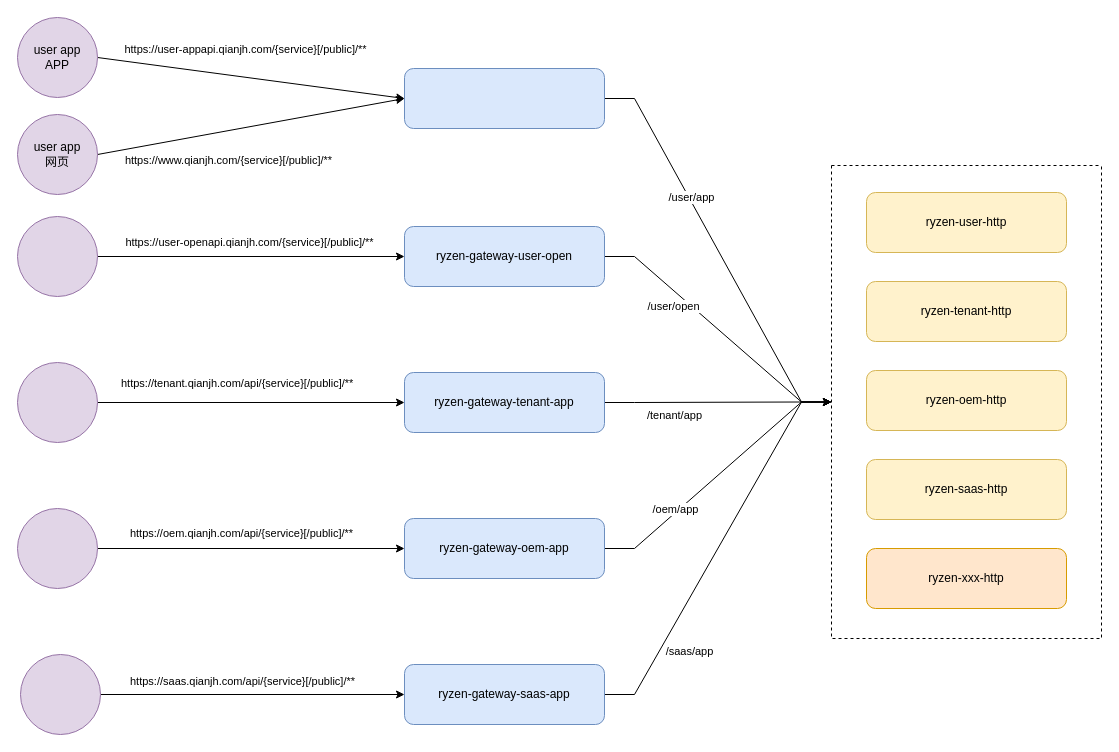
This 1119x752 diagram has some shape labels left out. The box of each missing label's shape, as (x1, y1, x2, y2) in pixels:
oem app 网页: (16, 508, 98, 588)
openapi: (16, 216, 98, 296)
ryzen-gateway-user-app: (404, 68, 604, 128)
saas app 网页: (20, 654, 100, 734)
tenant app 网页: (16, 362, 98, 442)
